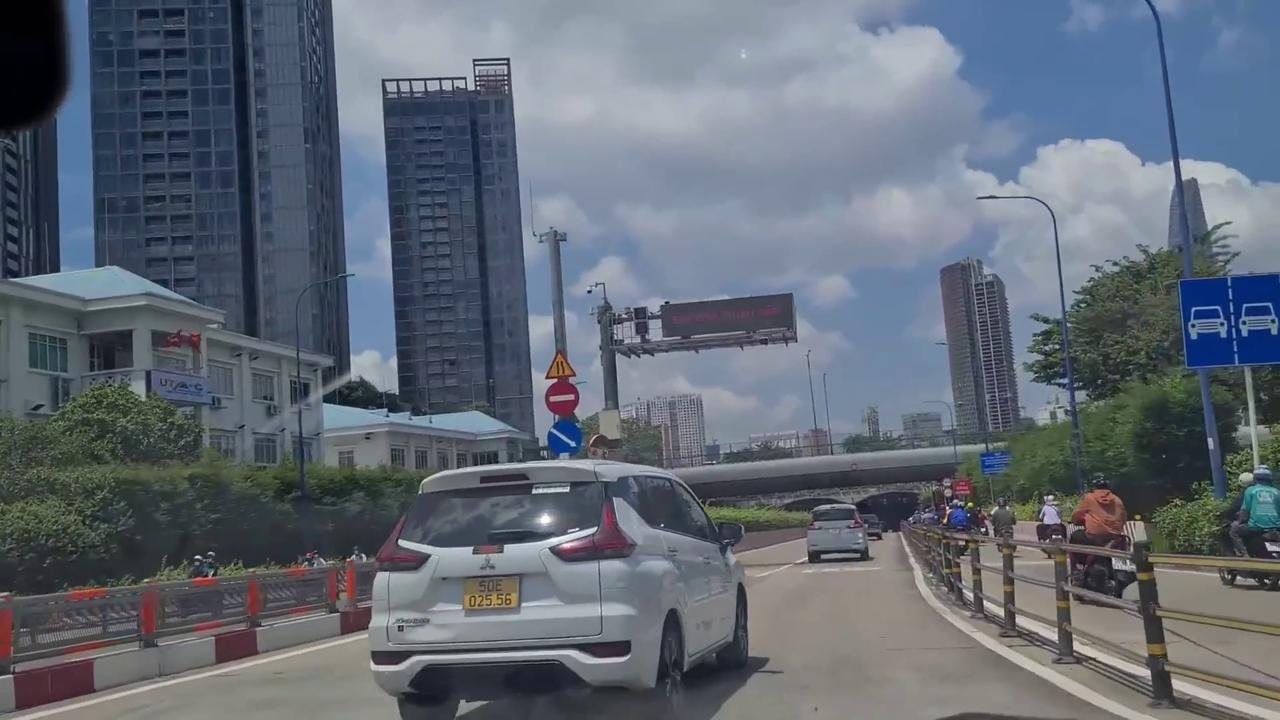Cấm đi ngược chiều: (545, 381, 580, 416)
Hướng phải đi vòng sang phải: (547, 419, 582, 454)
Đuờng hẹp: (545, 350, 578, 379)
